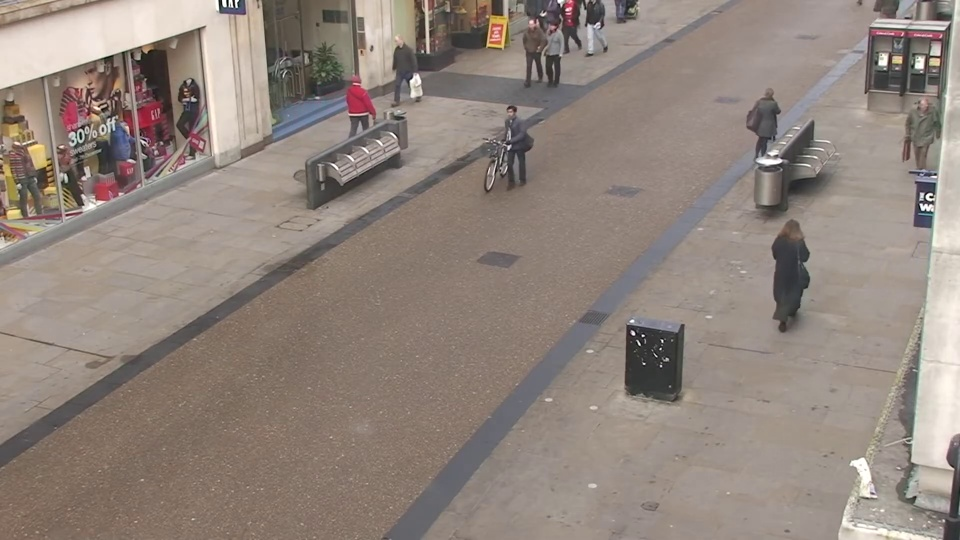pedestrian: (770, 208, 815, 329), (898, 96, 942, 191), (492, 105, 524, 198), (752, 83, 784, 170), (349, 67, 379, 149), (381, 33, 408, 105), (539, 22, 563, 91), (517, 17, 541, 85)
